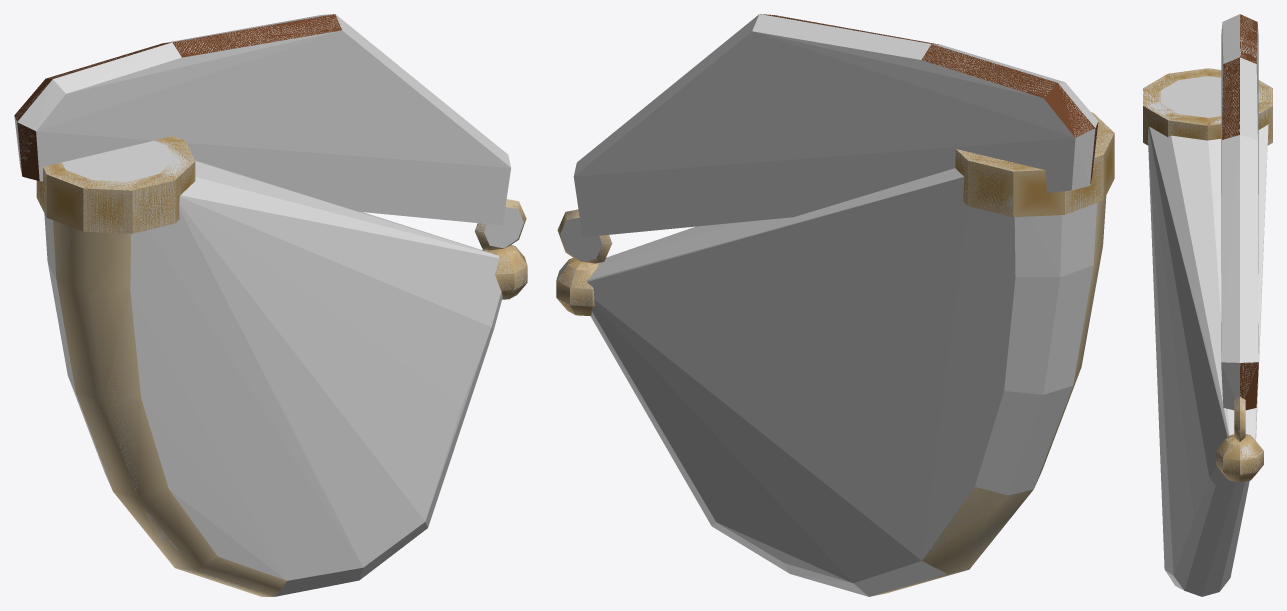
File: drinking_horn.glb
3 views of the same model, side by side, from view 1: azimuth 30°, elevation 25°; view 2: azimuth 150°, elevation 25°; view 3: azimuth 270°, elevation 25° (orthographic). The views are drawn at different scales.
Parts seen in each view (by area): view 1: COL_drinking_horn_00, COL_drinking_horn_04, horn, rim_band, COL_drinking_horn_01, strap, tip_cap, COL_drinking_horn_03; view 2: COL_drinking_horn_00, COL_drinking_horn_04, rim_band, horn, strap, COL_drinking_horn_01, tip_cap, COL_drinking_horn_03; view 3: COL_drinking_horn_00, COL_drinking_horn_04, COL_drinking_horn_01, rim_band, strap, tip_cap, COL_drinking_horn_02, tip_loop.
Part boxes in pixels (bbox=[...]): COL_drinking_horn_00: bbox=[44, 160, 502, 596]; COL_drinking_horn_04: bbox=[14, 14, 510, 225]; horn: bbox=[53, 220, 286, 596]; rim_band: bbox=[36, 136, 195, 233]; COL_drinking_horn_01: bbox=[36, 136, 194, 233]; strap: bbox=[14, 14, 341, 180]; tip_cap: bbox=[482, 245, 527, 299]; COL_drinking_horn_03: bbox=[475, 199, 525, 249]; COL_drinking_horn_00: bbox=[586, 168, 1101, 596]; COL_drinking_horn_04: bbox=[573, 14, 1098, 237]; rim_band: bbox=[955, 112, 1114, 217]; horn: bbox=[595, 195, 1106, 596]; strap: bbox=[760, 14, 1098, 183]; COL_drinking_horn_01: bbox=[955, 114, 1113, 216]; tip_cap: bbox=[556, 258, 598, 315]; COL_drinking_horn_03: bbox=[560, 210, 611, 262]; COL_drinking_horn_00: bbox=[1148, 124, 1268, 596]; COL_drinking_horn_04: bbox=[1221, 14, 1258, 410]; COL_drinking_horn_01: bbox=[1143, 68, 1272, 144]; rim_band: bbox=[1143, 68, 1272, 145]; strap: bbox=[1222, 14, 1258, 410]; tip_cap: bbox=[1216, 434, 1263, 482]; COL_drinking_horn_02: bbox=[1216, 435, 1263, 479]; tip_loop: bbox=[1234, 397, 1245, 441].
Bounding box in the file's own units: 0.4317 × 0.4493 × 0.1116.
3 materials, 3 textured.
